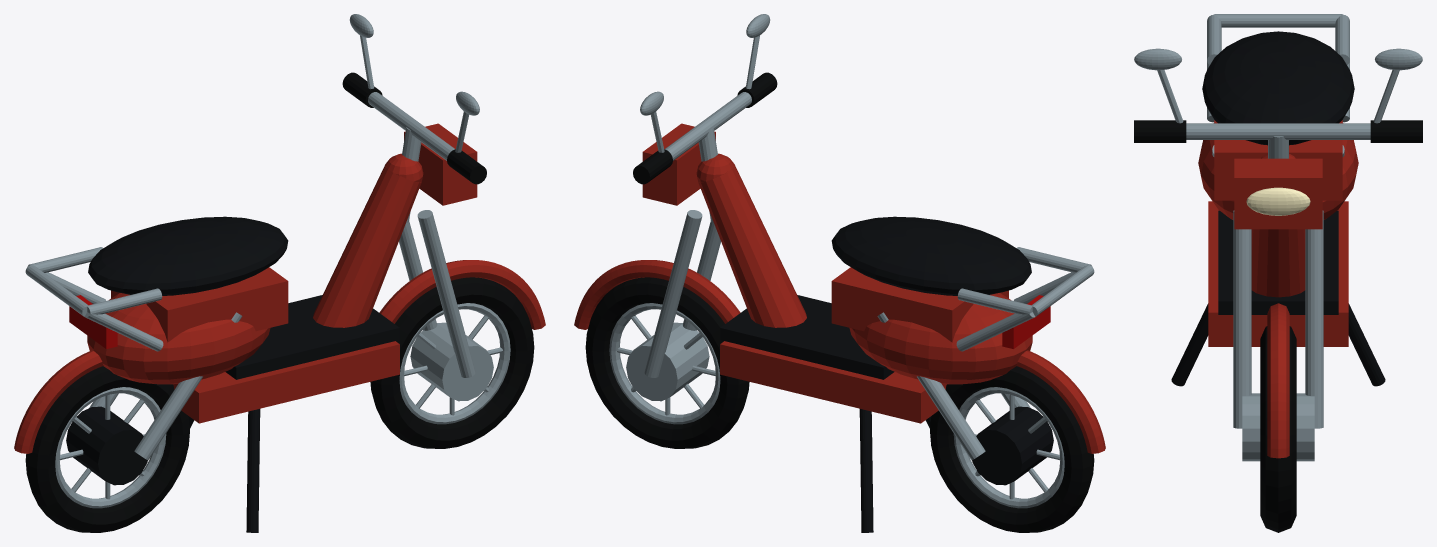
The model's file is ebike_1.dae.
The picture shows the model from 3 angles, left to right: view 1: azimuth 30°, elevation 25°; view 2: azimuth 150°, elevation 25°; view 3: azimuth 270°, elevation 25°; orthographic projection. The views are drawn at different scales.
Parts seen in each view (by area): view 1: part3node, part2node, part1node, part0node, part5node; view 2: part3node, part2node, part1node, part0node, part5node; view 3: part3node, part1node, part2node, part0node, part4node.
Part boxes in pixels (left/top/right/bottom): part3node: left=14, top=123, right=545, bottom=453; part2node: left=66, top=216, right=399, bottom=532; part1node: left=25, top=14, right=510, bottom=508; part0node: left=25, top=72, right=534, bottom=532; part5node: left=69, top=295, right=117, bottom=348; part3node: left=574, top=123, right=1105, bottom=453; part2node: left=720, top=216, right=1053, bottom=532; part1node: left=609, top=14, right=1094, bottom=508; part0node: left=585, top=72, right=1094, bottom=532; part5node: left=1002, top=295, right=1050, bottom=348; part3node: left=1198, top=120, right=1358, bottom=458; part1node: left=1134, top=14, right=1422, bottom=461; part2node: left=1171, top=31, right=1385, bottom=386; part0node: left=1134, top=120, right=1422, bottom=532; part4node: left=1246, top=187, right=1310, bottom=215.
Size of the model in its own units: 0.18 by 0.075 by 0.13.
